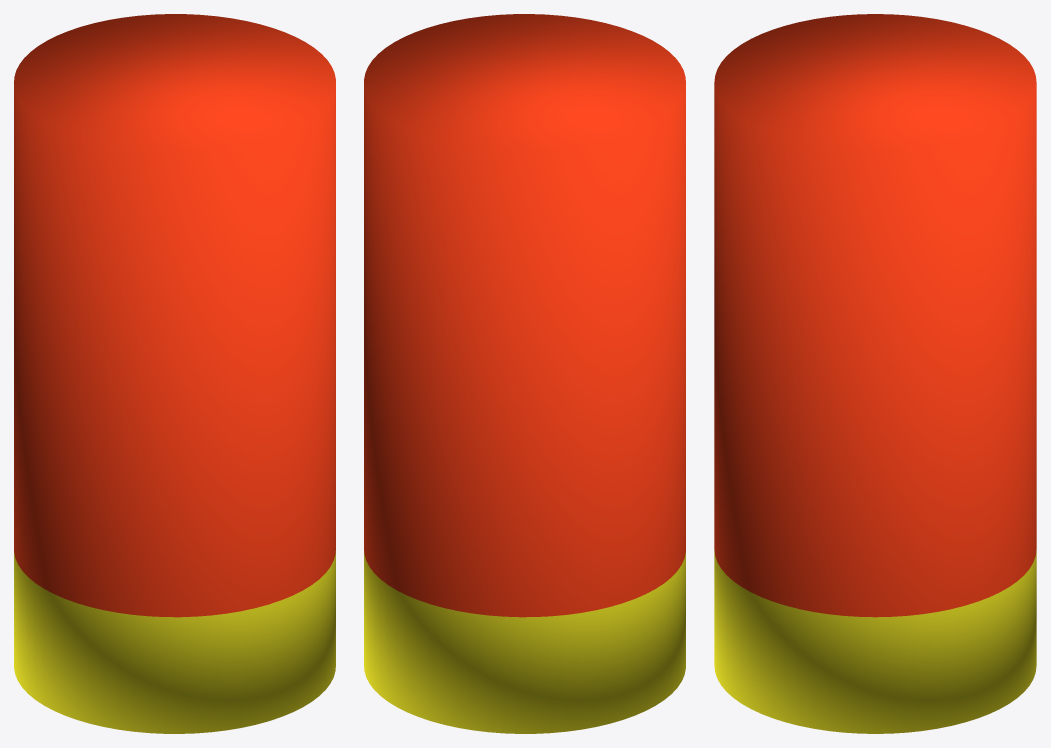
File: hop2.fbx
3 renders of one model, left to right at view 1: azimuth 30°, elevation 25°; view 2: azimuth 150°, elevation 25°; view 3: azimuth 270°, elevation 25°, orthographic.
Visible parts, largest first — view 1: TwoColor_Cylinder; view 2: TwoColor_Cylinder; view 3: TwoColor_Cylinder.
Part boxes in pixels (x1=…): TwoColor_Cylinder: x1=14, y1=14, x2=335, y2=733; TwoColor_Cylinder: x1=364, y1=14, x2=685, y2=733; TwoColor_Cylinder: x1=714, y1=14, x2=1036, y2=733.
Bounding box in the file's own units: 100 × 200 × 100.
